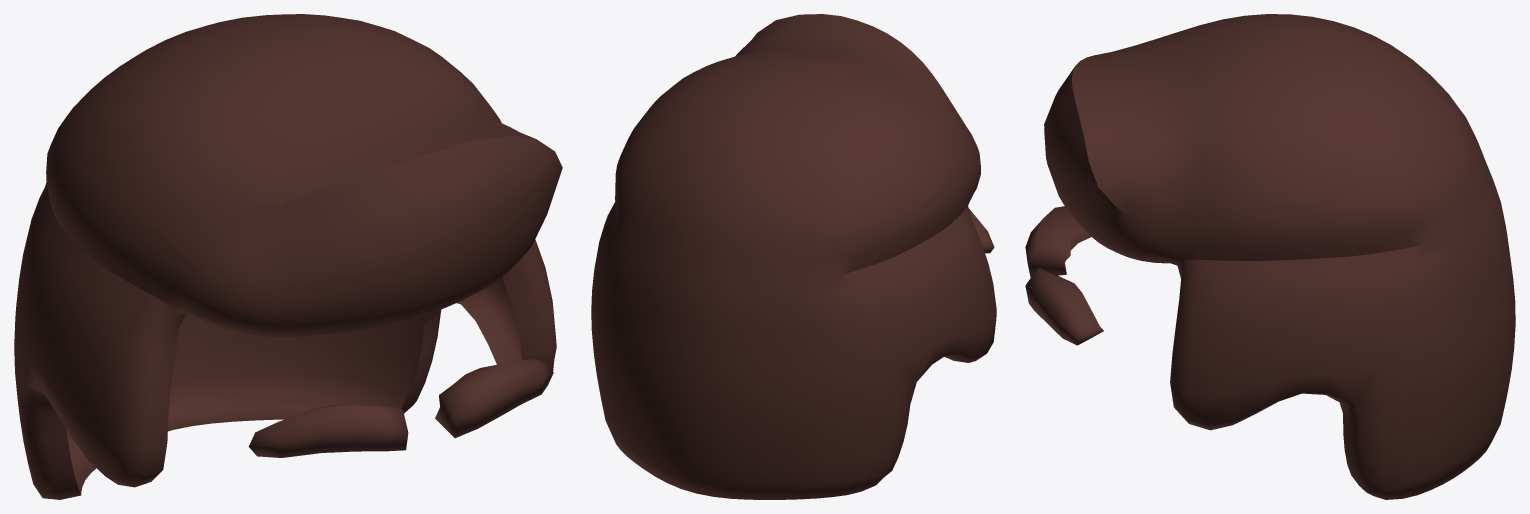
3 views of the same model, side by side, from view 1: azimuth 30°, elevation 25°; view 2: azimuth 150°, elevation 25°; view 3: azimuth 270°, elevation 25° (orthographic). The views are drawn at different scales.
Parts seen in each view (by area): view 1: 19男发1; view 2: 19男发1; view 3: 19男发1.
Boxes of the visible parts, left/top/right/bottom form: 19男发1: left=14, top=14, right=562, bottom=499; 19男发1: left=591, top=14, right=996, bottom=499; 19男发1: left=1025, top=14, right=1515, bottom=499.
Bounding box in the file's own units: 0.4001 × 0.3929 × 0.4415.
